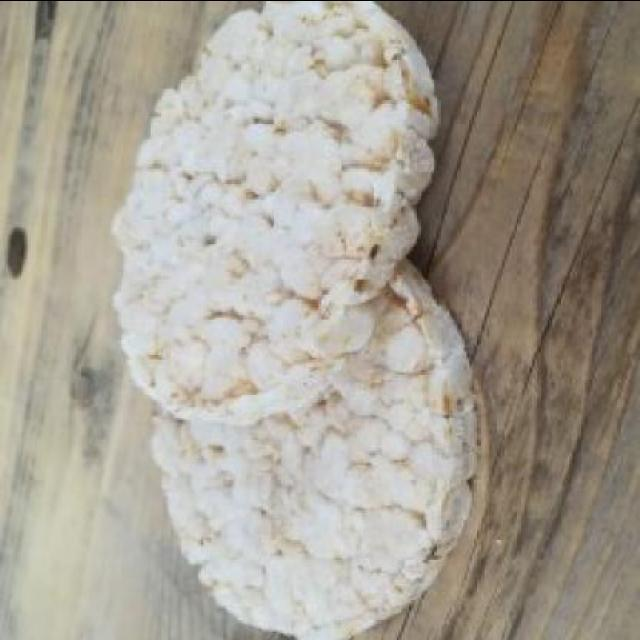Gallette di riso packaged: (103, 2, 445, 430), (156, 258, 490, 630)
